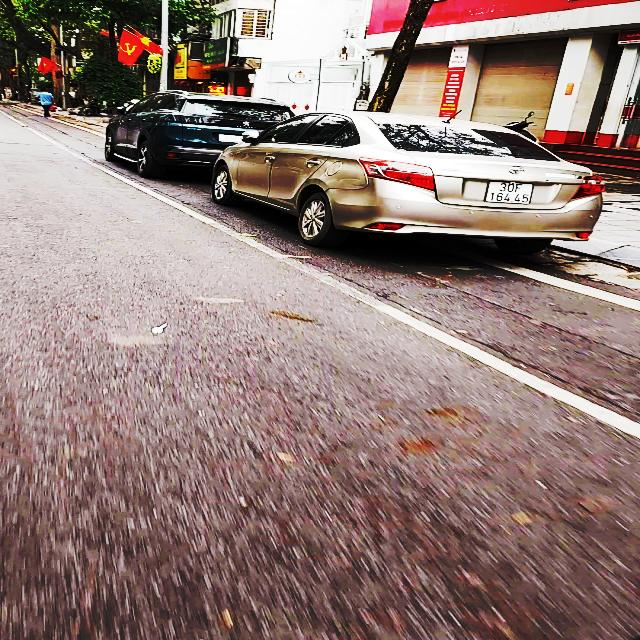license_plate: (485, 181, 536, 206)
